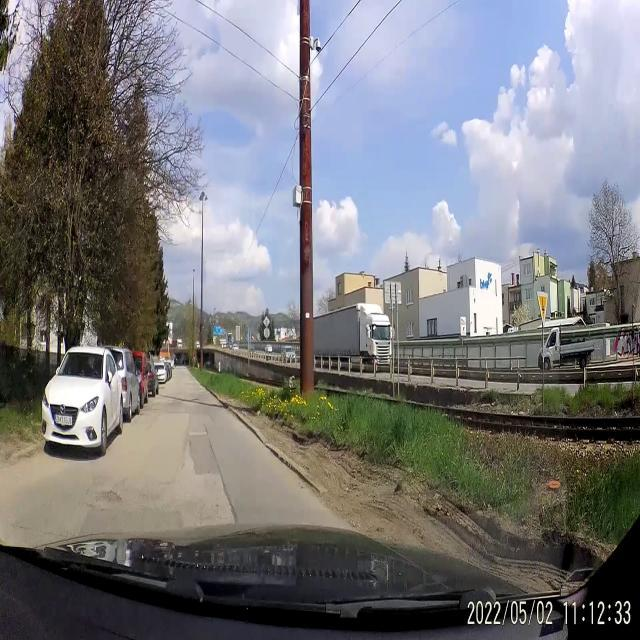Pothole: (96, 484, 128, 510)
